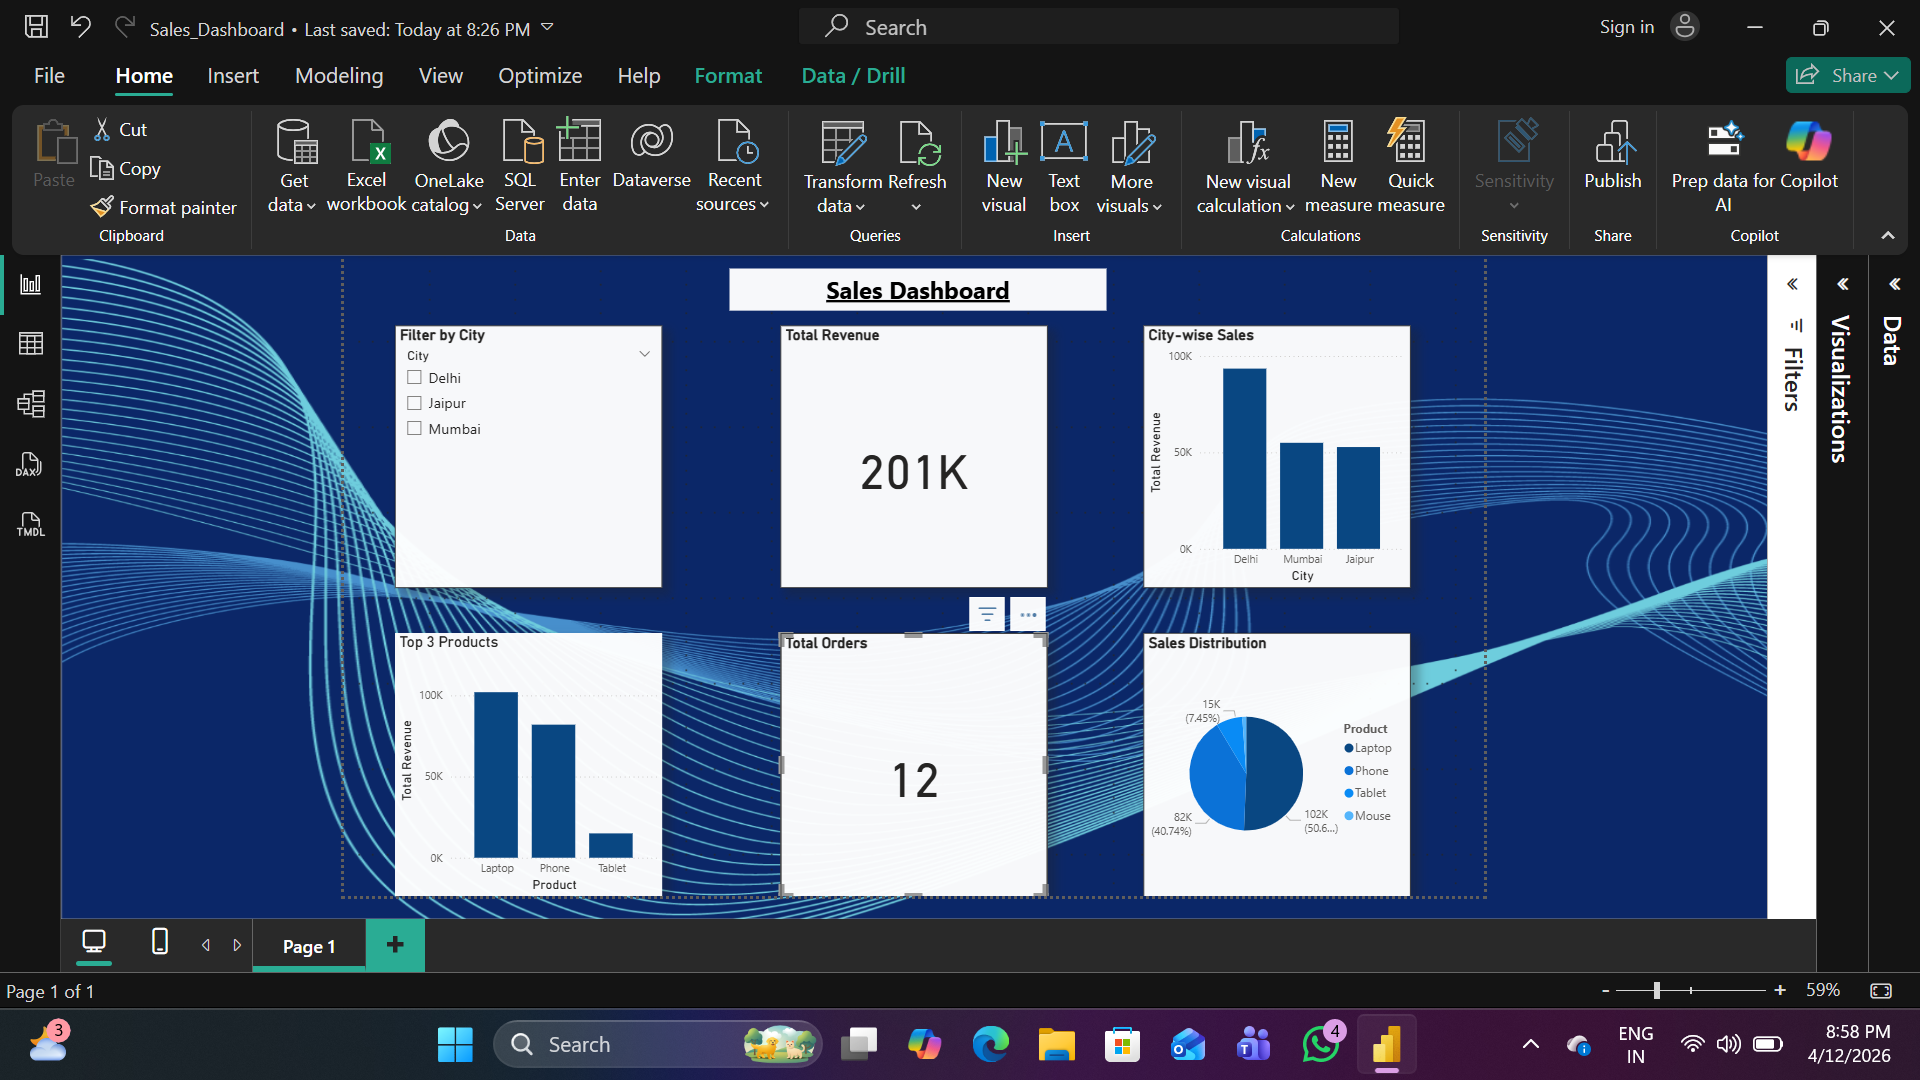

The page's visual inventory and layout, read from the dashboard file:
{"tool":"powerbi","page":{"name":"Page 1","canvas":[1280,720],"ordinal":0},"visuals":[{"type":"clusteredColumnChart","title":"City-wise Sales","fields":{"Category":["customer_sales.City"],"Y":["Sum(customer_sales.Total_Sales)"]},"box":[897.7,79.2,299.8,294.7],"z":0},{"type":"clusteredColumnChart","title":"Top 3 Products","fields":{"Category":["customer_sales.Product"],"Y":["Sum(customer_sales.Total_Sales)"]},"box":[56.7,425.2,300,295],"z":1000},{"type":"pieChart","title":"Sales Distribution","fields":{"Category":["customer_sales.Product"],"Y":["Sum(customer_sales.Total_Sales)"]},"box":[897.7,424.4,299.8,296.4],"z":2000},{"type":"slicer","title":"Filter by City","fields":{"Values":["customer_sales.City"]},"box":[57.3,79.2,299.8,294.7],"z":3000},{"type":"textbox","box":[432.8,15.1,423.3,47.2],"z":4000},{"type":"card","title":"Total Revenue","fields":{"Values":["Sum(customer_sales.Total_Sales)"]},"box":[490.1,79.2,299.8,294.7],"z":5000},{"type":"card","title":"Total Orders","fields":{"Values":["Sum(customer_sales.Quantity)"]},"box":[490.1,424.4,299.8,296.4],"z":6000}]}

Visuals, with their boxes on the page's 1280x720 design canvas (x1, y1, x2, y2). These are canvas units, not pixel positions in the 1920x1080 screenshot, which may show the page scaled, cropped or inside an application window:
"City-wise Sales" clusteredColumnChart: <bbox>898, 79, 1198, 374</bbox>
"Top 3 Products" clusteredColumnChart: <bbox>57, 425, 357, 720</bbox>
"Sales Distribution" pieChart: <bbox>898, 424, 1198, 721</bbox>
"Filter by City" slicer: <bbox>57, 79, 357, 374</bbox>
textbox: <bbox>433, 15, 856, 62</bbox>
"Total Revenue" card: <bbox>490, 79, 790, 374</bbox>
"Total Orders" card: <bbox>490, 424, 790, 721</bbox>
